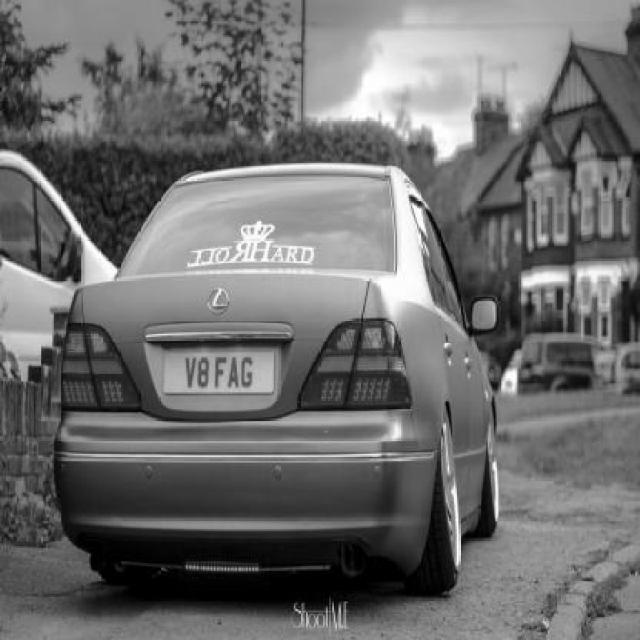car: (55, 160, 503, 600)
license-plate: (163, 344, 277, 396)
